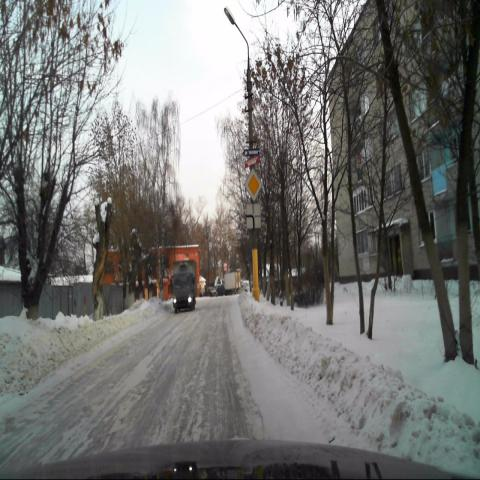8_13: (246, 202, 261, 229)
